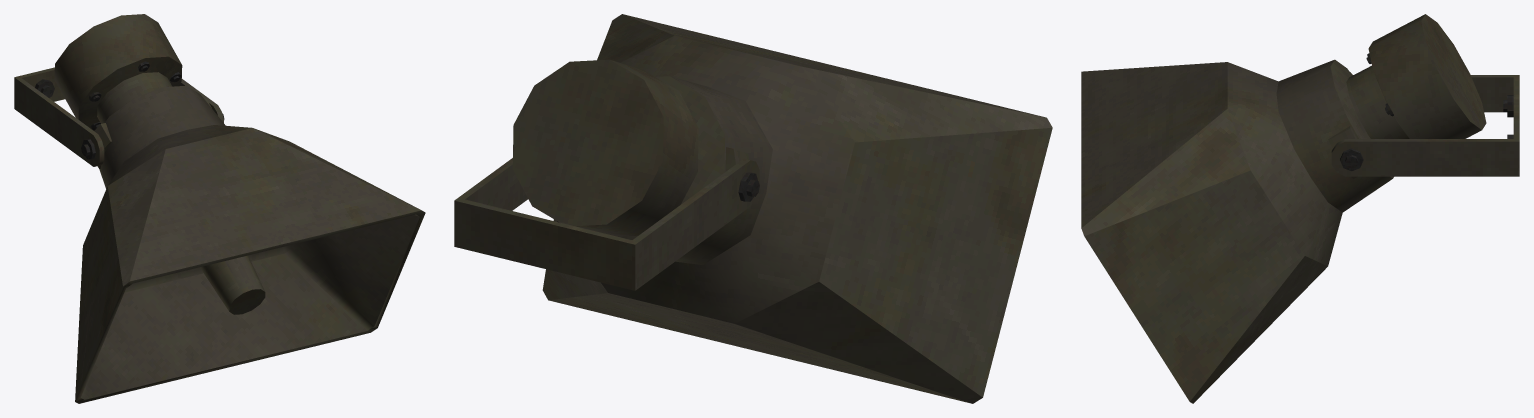
The model's file is speaker_mx_1.glb.
3 renders of one model, left to right at view 1: azimuth 30°, elevation 25°; view 2: azimuth 150°, elevation 25°; view 3: azimuth 270°, elevation 25°, orthographic. The views are drawn at different scales.
Visible parts, largest first — view 1: speaker_mx_1; view 2: speaker_mx_1; view 3: speaker_mx_1.
Boxes of the visible parts, box(x1,y1,x2,y2) form: speaker_mx_1: box(14, 14, 425, 403); speaker_mx_1: box(454, 14, 1052, 403); speaker_mx_1: box(1081, 14, 1519, 403).
Bounding box in the file's own units: 0.4947 × 0.4325 × 0.564.
2 materials, 2 textured.
